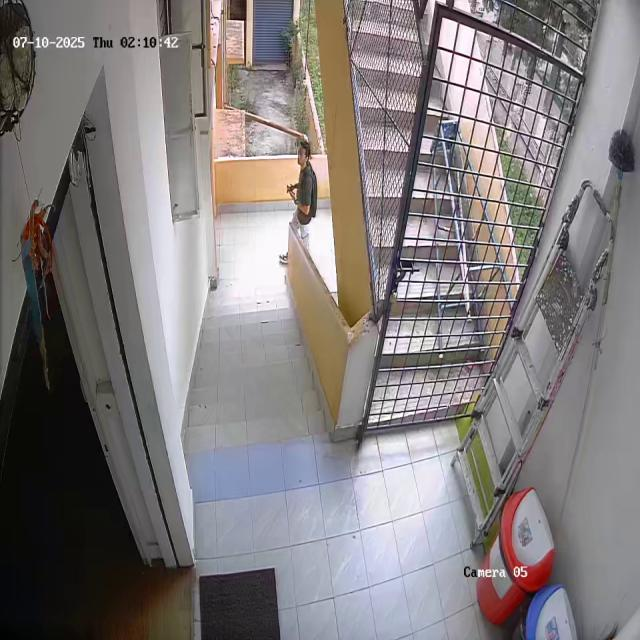person: (284, 141, 318, 267)
